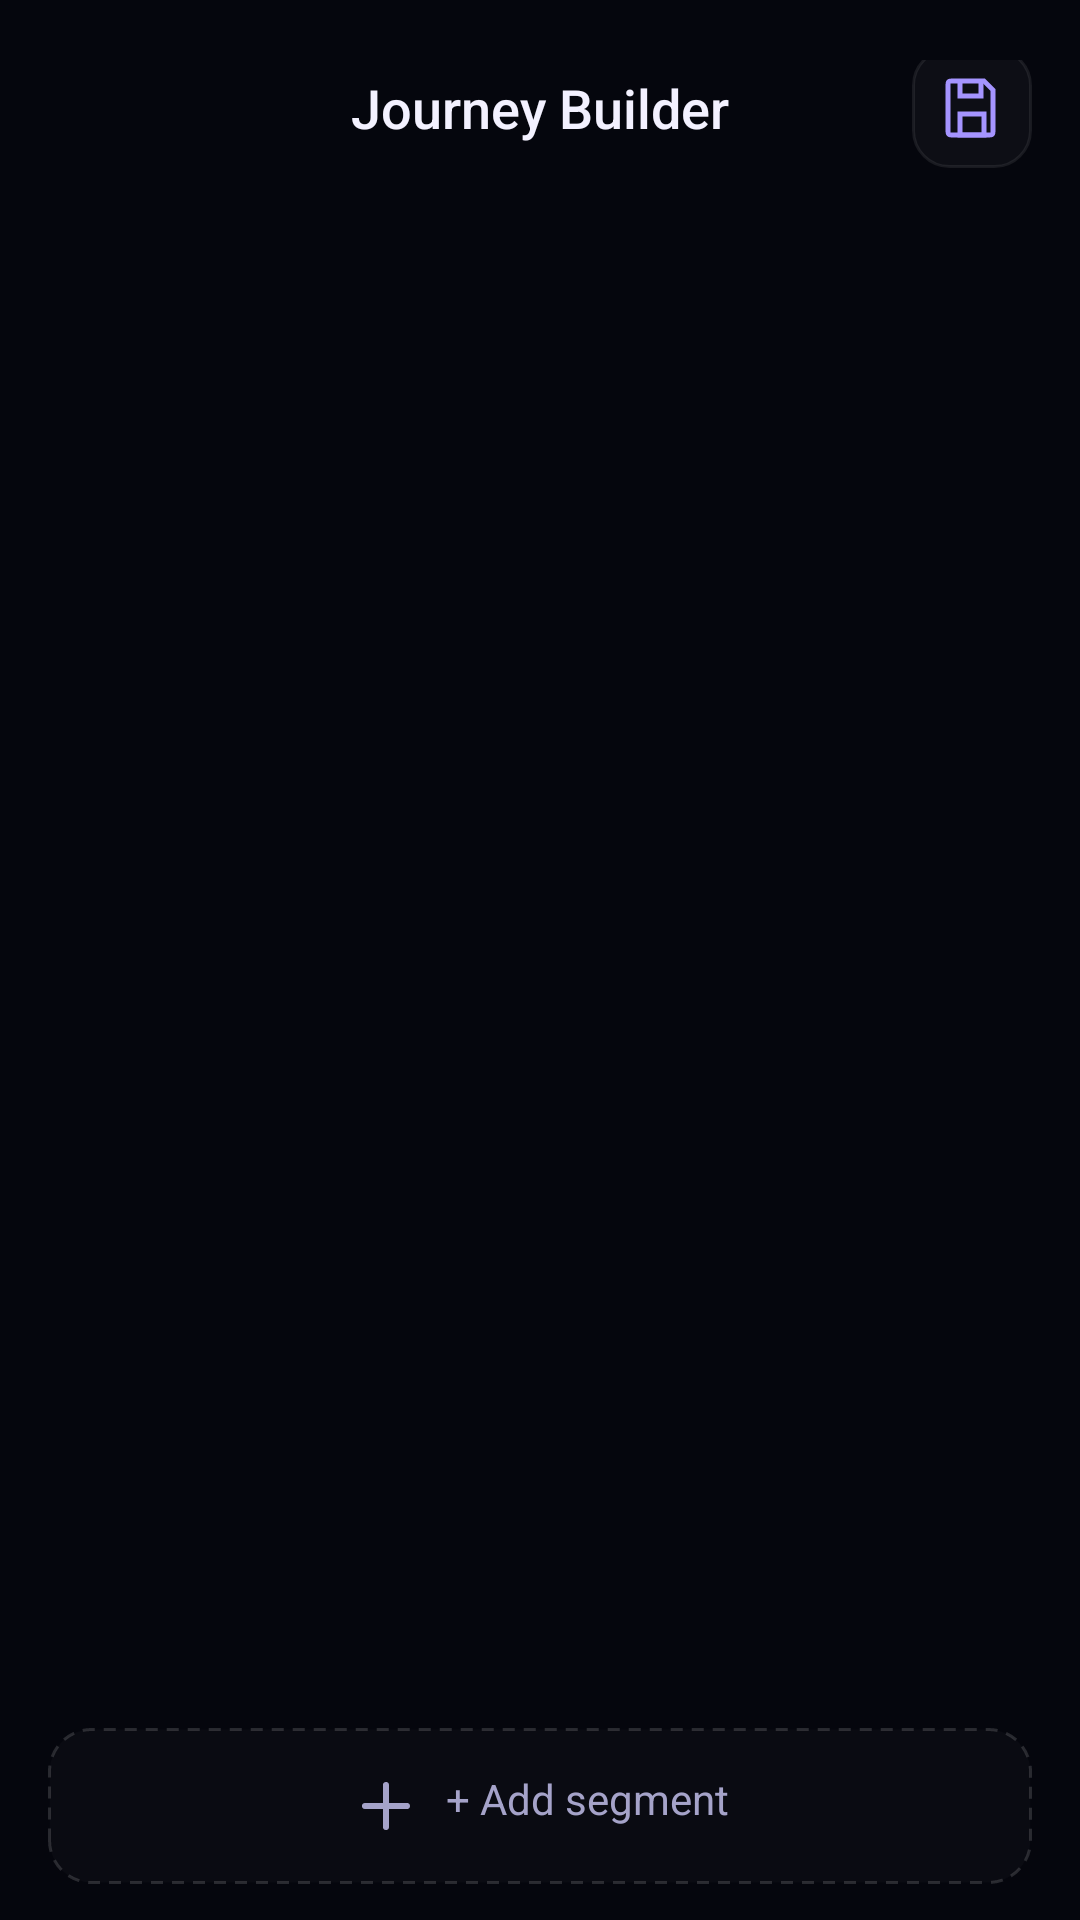

Where to tap for icons on this 1080w x 1920h app screen, as point (x, y):
Save: point (972, 113)
